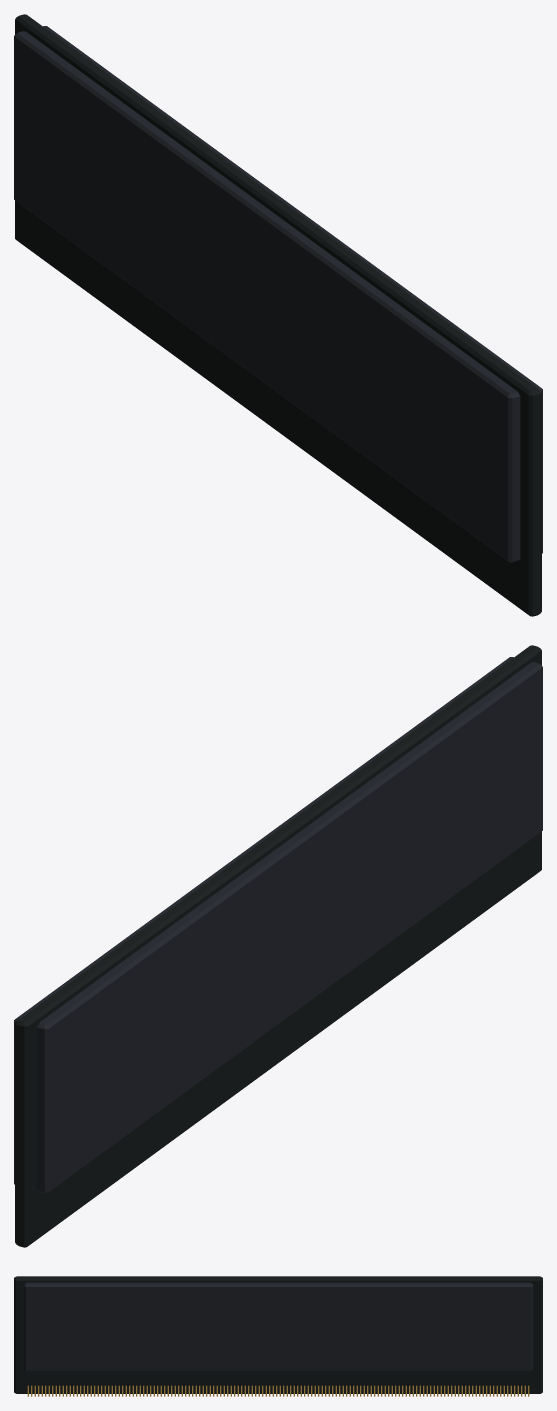
Rendered from L128_SERVICE_DDR5.fbx.
The picture shows the model from 3 angles, top to bottom: view 1: azimuth 30°, elevation 25°; view 2: azimuth 150°, elevation 25°; view 3: azimuth 270°, elevation 25°; orthographic projection. The views are drawn at different scales.
Visible parts, largest first — view 1: SERVICE_DDR5__DarkArmor, SERVICE_DDR5__PCB; view 2: SERVICE_DDR5__DarkArmor, SERVICE_DDR5__PCB; view 3: SERVICE_DDR5__DarkArmor, SERVICE_DDR5__PCB, SERVICE_DDR5__Gold.
Part boxes in pixels (x1,y1,x2,y2): SERVICE_DDR5__DarkArmor: (14,26,542,562); SERVICE_DDR5__PCB: (15,14,541,616); SERVICE_DDR5__DarkArmor: (14,657,542,1193); SERVICE_DDR5__PCB: (15,645,541,1247); SERVICE_DDR5__DarkArmor: (24,1282,532,1371); SERVICE_DDR5__PCB: (14,1276,542,1393); SERVICE_DDR5__Gold: (27,1385,529,1396).
Size of the model in its own units: 5.2 by 32.5 by 133.
